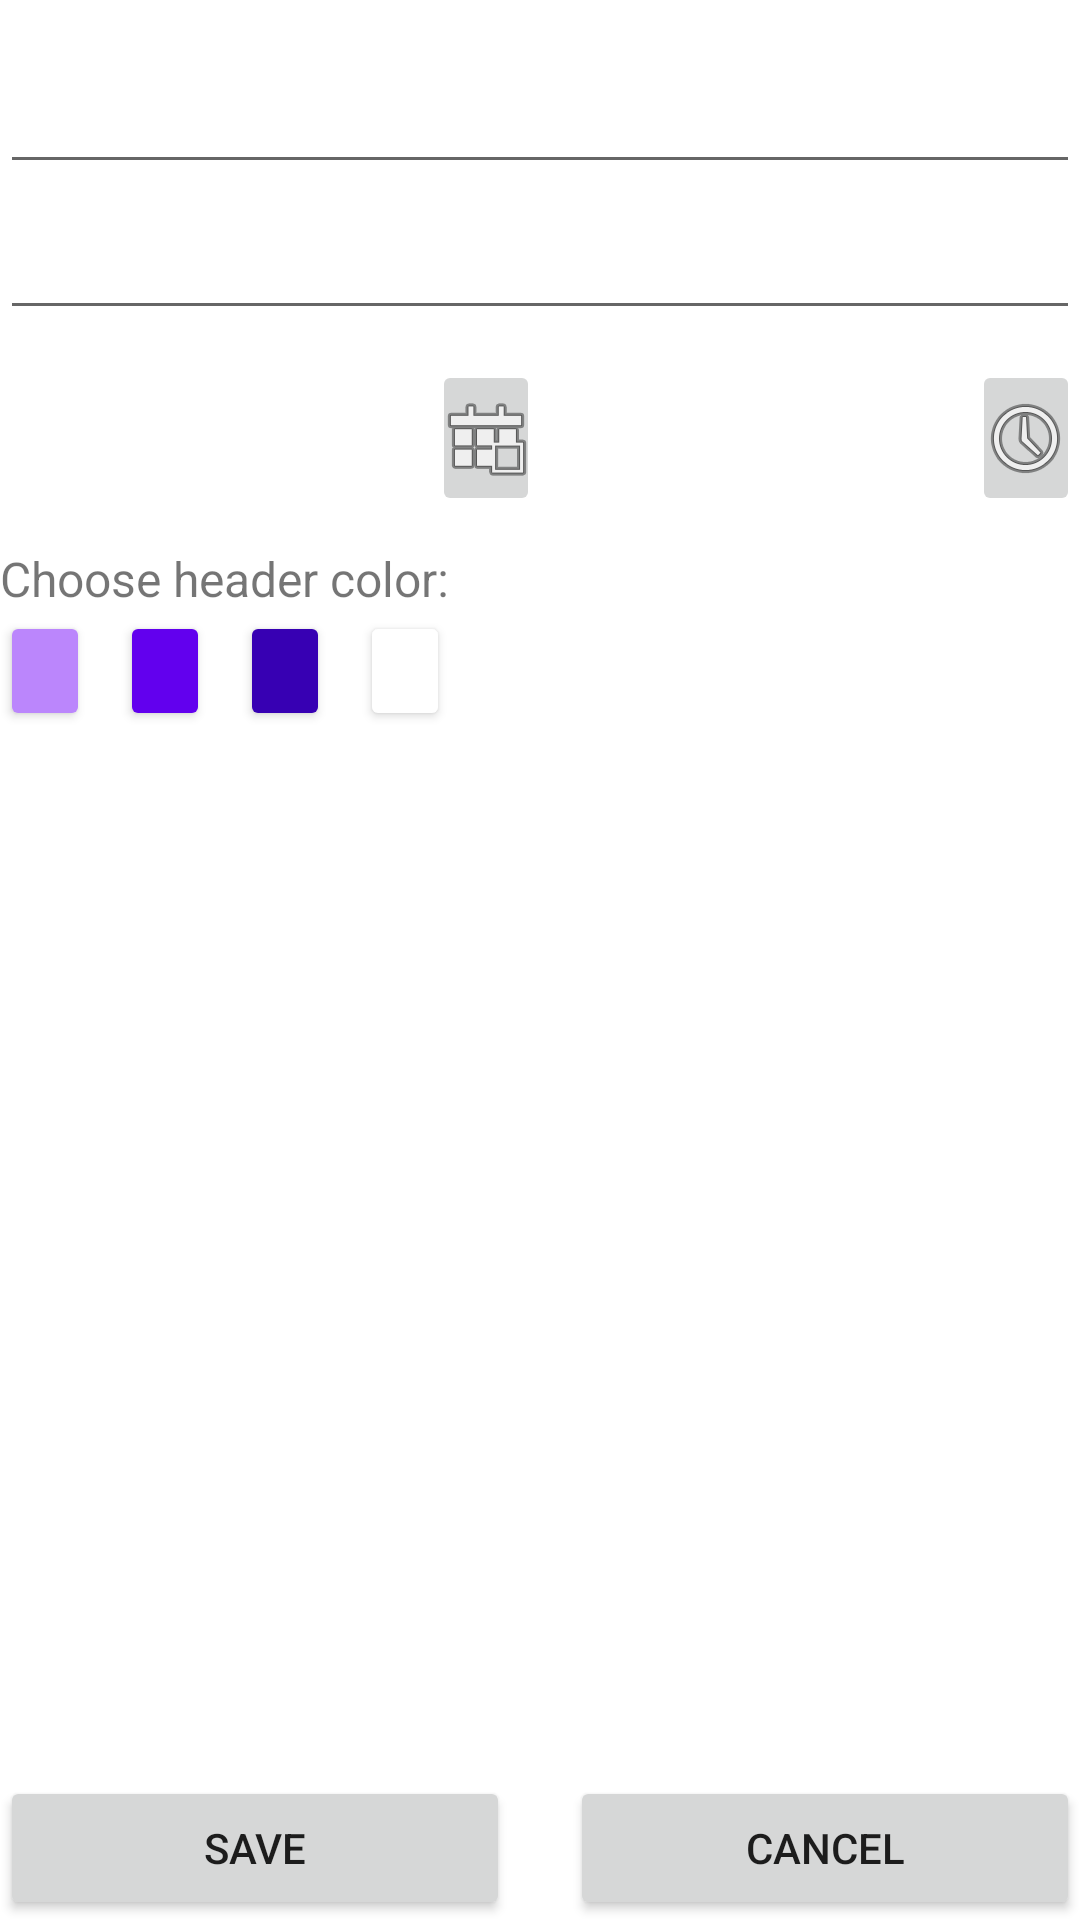

Icons on this 1080 × 1920 Android screen, each with the point to tap as (x=x, y=y):
recent history: (x=1026, y=438)
today: (x=486, y=438)
